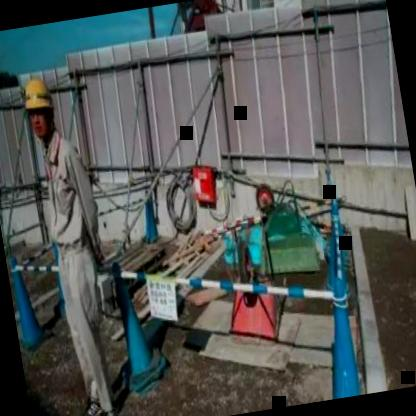helmet: (14, 68, 62, 148)
